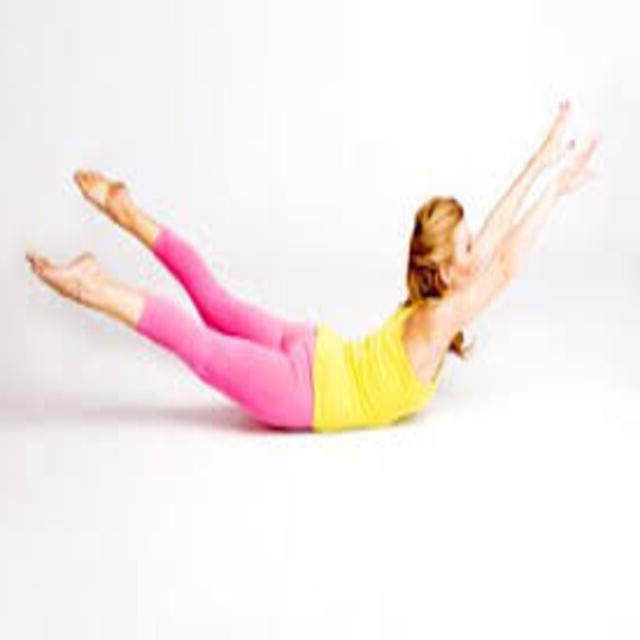Locust_Pose: (38, 102, 598, 435)
